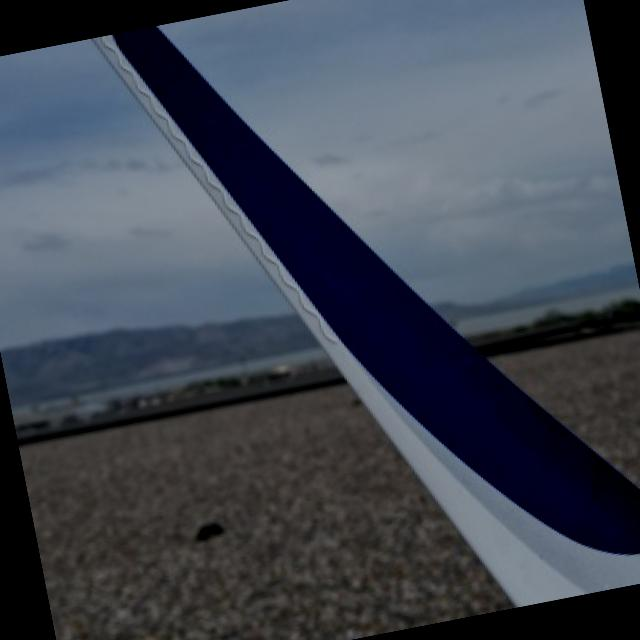healthy: (98, 25, 640, 605)
